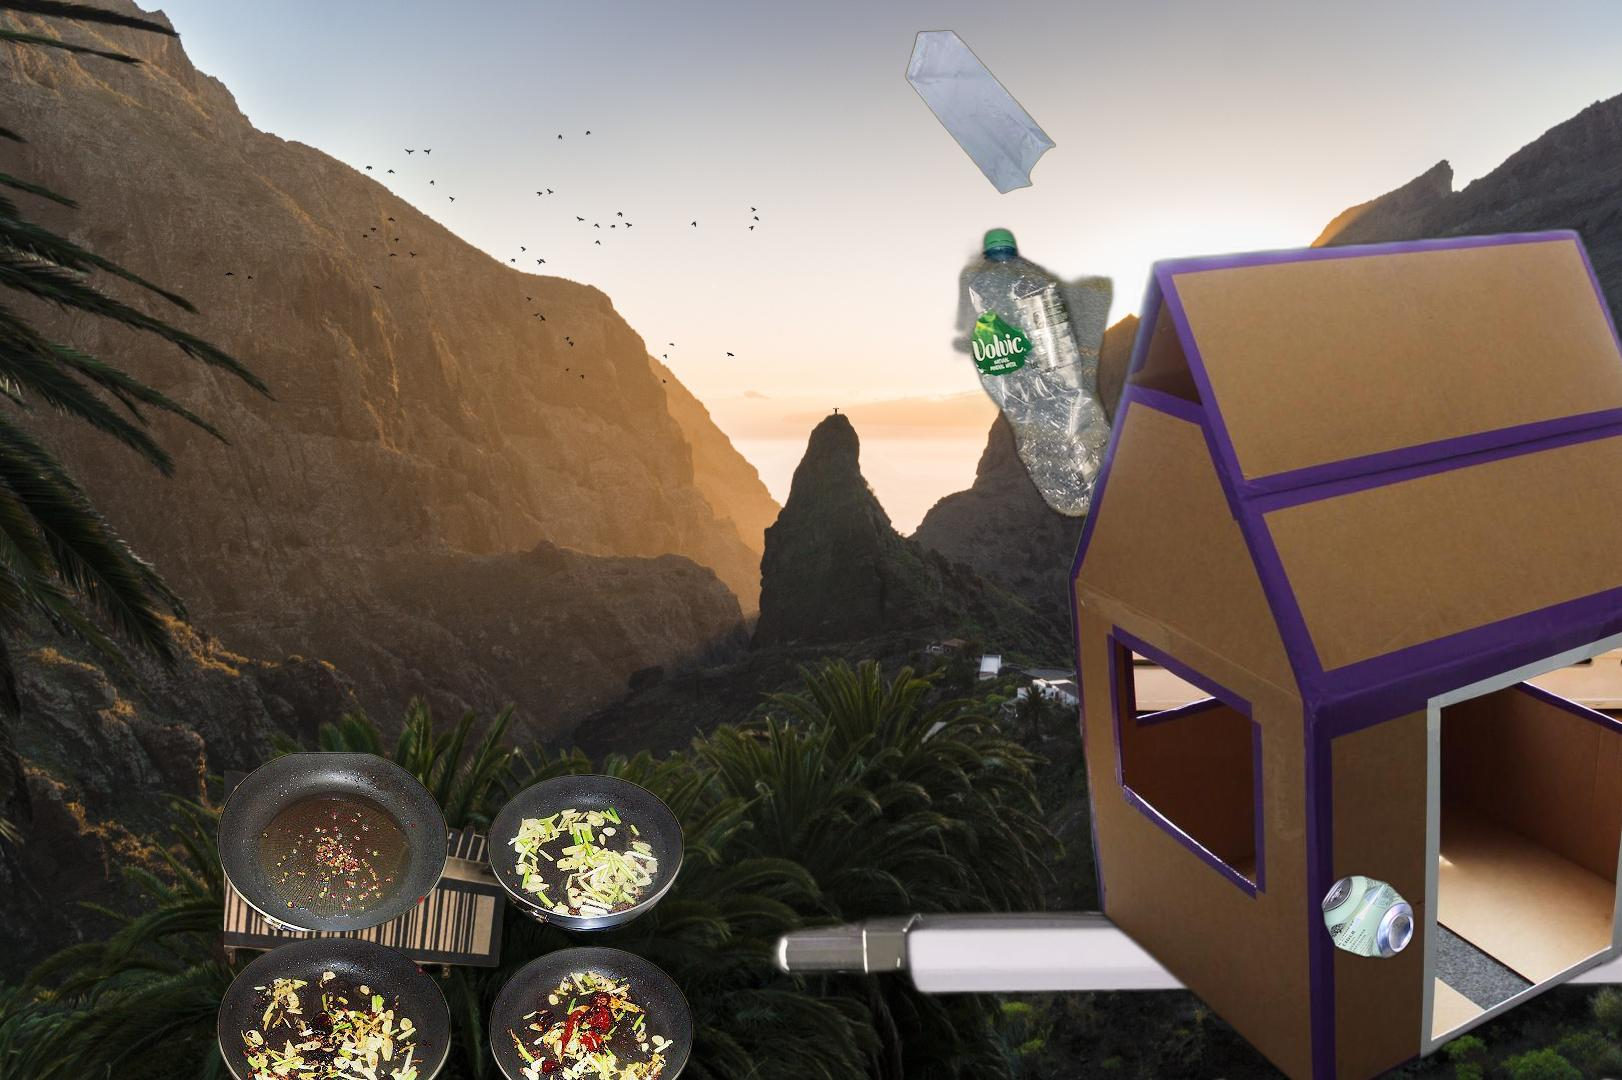biological: (206, 751, 704, 1080)
metal-cans: (1091, 547, 1602, 964)
paper: (1312, 339, 1622, 722)
penholder: (612, 897, 1622, 1080)
plastic-bag: (905, 27, 1057, 196)
plastic-bottles: (944, 222, 1130, 524)
trashbox-cardboard: (1058, 219, 1622, 1080), (224, 765, 736, 1027)
